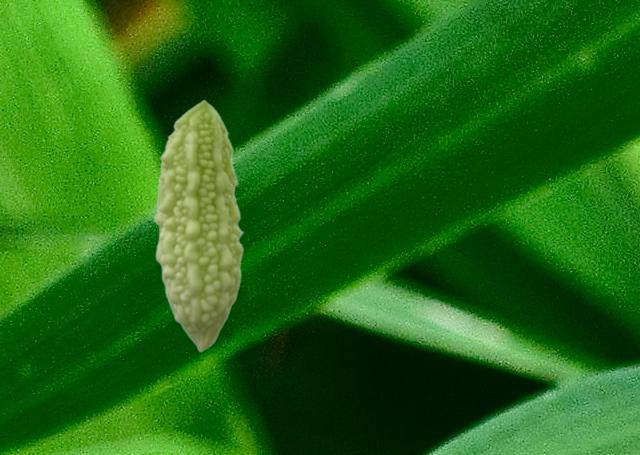ampalaya: (153, 99, 244, 352)
